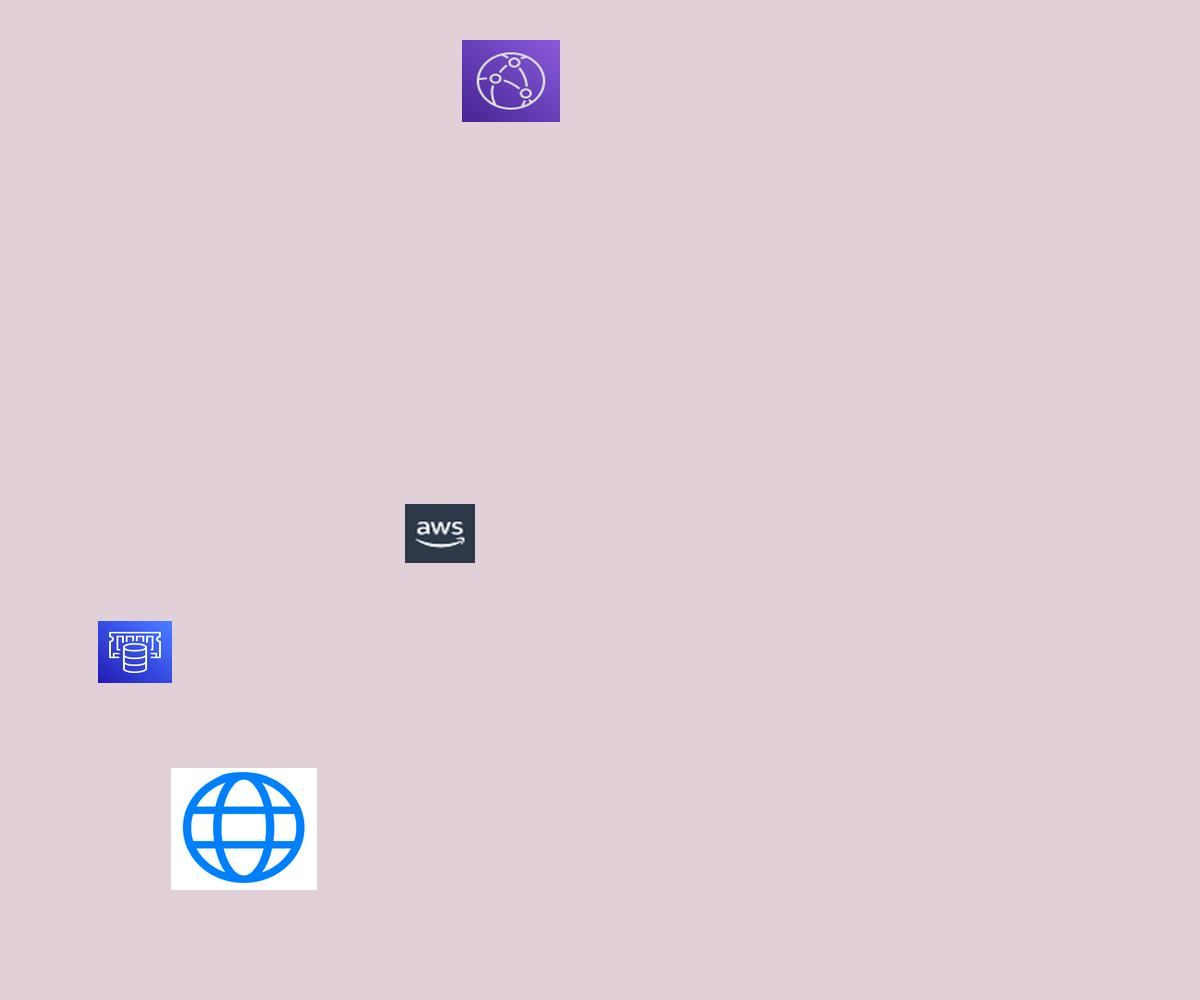AWS-Cloud-logo: (405, 504, 475, 563)
AWS-CloudFront: (462, 40, 560, 122)
AWS-ElastiCache: (98, 621, 172, 683)
Azure_http: (171, 768, 317, 890)
